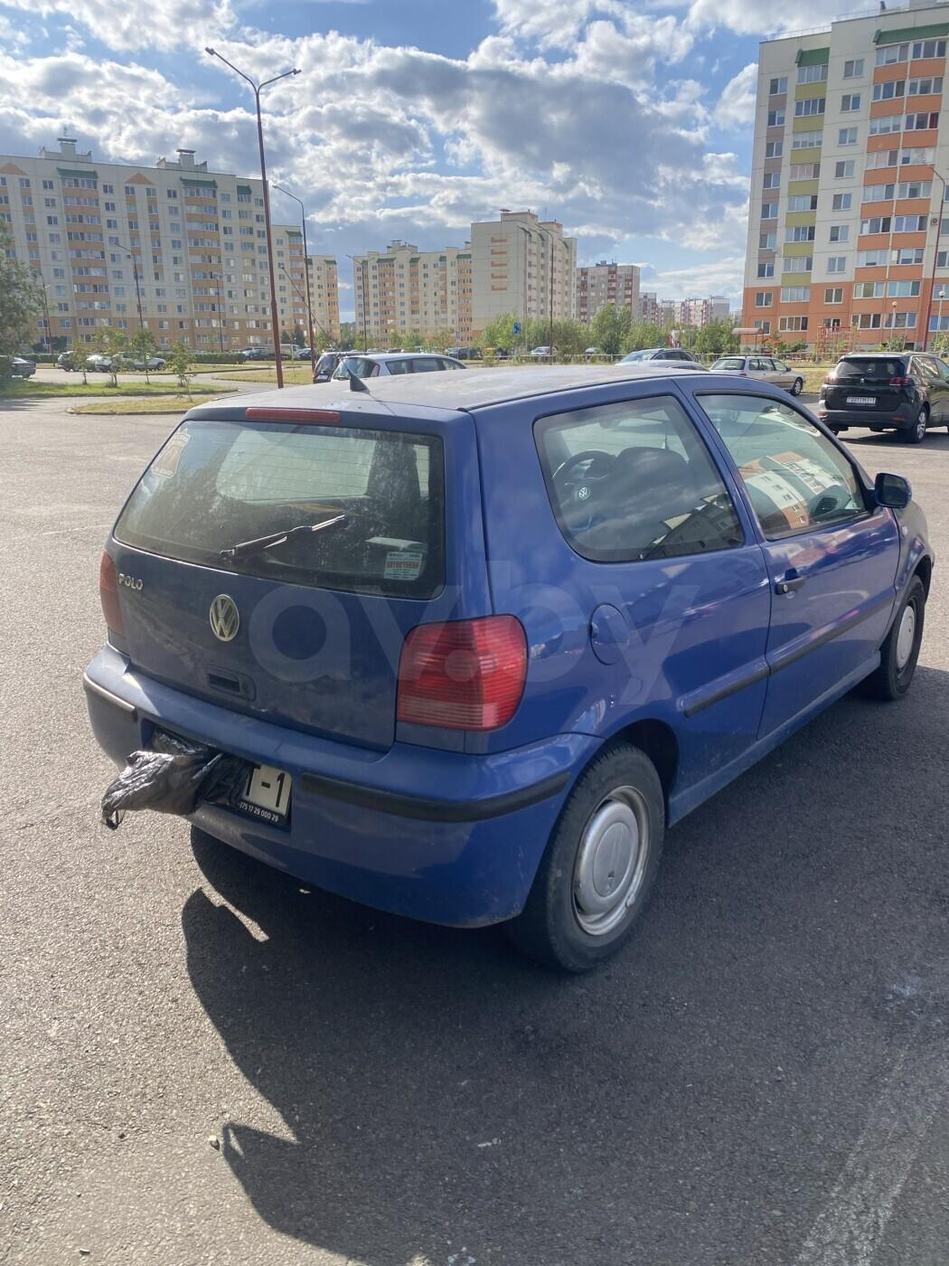Polo_2000-2002: (75, 358, 937, 960)
